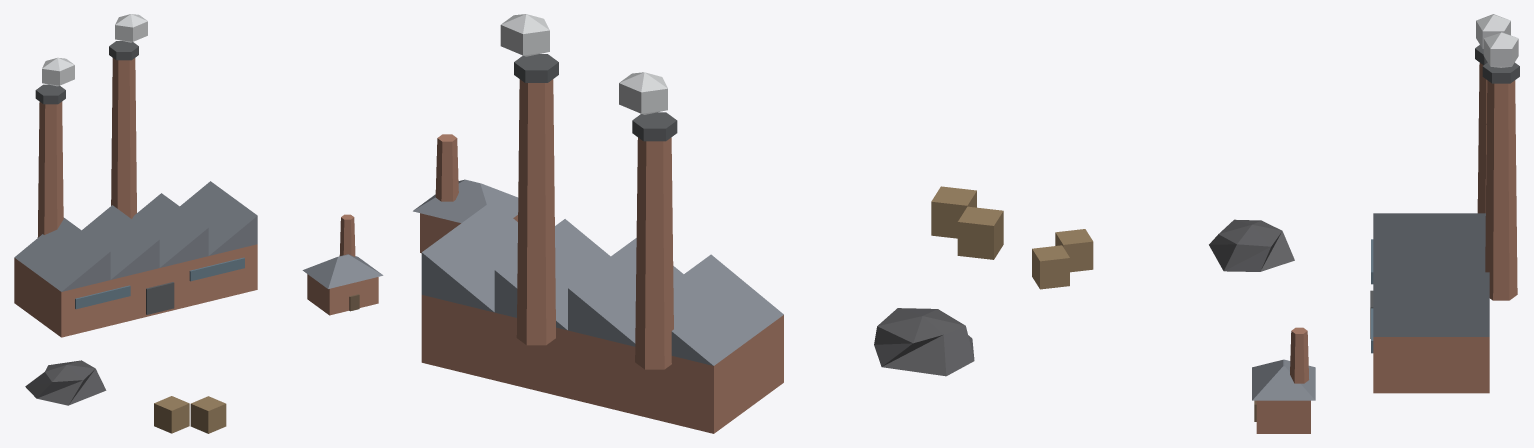
The model's file is manufactory.glb.
3 renders of one model, left to right at view 1: azimuth 30°, elevation 25°; view 2: azimuth 150°, elevation 25°; view 3: azimuth 270°, elevation 25°, orthographic. The views are drawn at different scales.
Visible parts, largest first — view 1: LOD0; view 2: LOD0; view 3: LOD0.
Part boxes in pixels (bbox=[...]): LOD0: bbox=[14, 14, 383, 433]; LOD0: bbox=[413, 14, 1003, 433]; LOD0: bbox=[1032, 14, 1519, 433].
Size of what is drawn, in the model's own units: 1.28 by 0.9139 by 1.26.
